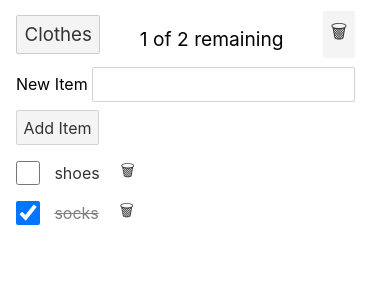
Category › should add item
The image size is (372, 289).
Type "t-shirts" into the field with test id "item-input".
click(224, 85); type("t-shirts")  # box [92,67,355,102]
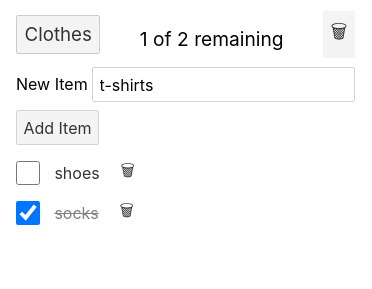
Click the button "Add Item".
click(57, 128)  # box [16,110,99,145]
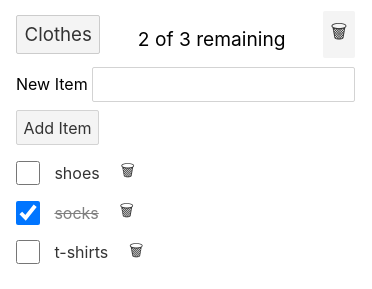
Check: the number of list items is 3, box [16,153,141,193]; [16,193,140,232]; [16,232,150,272]
